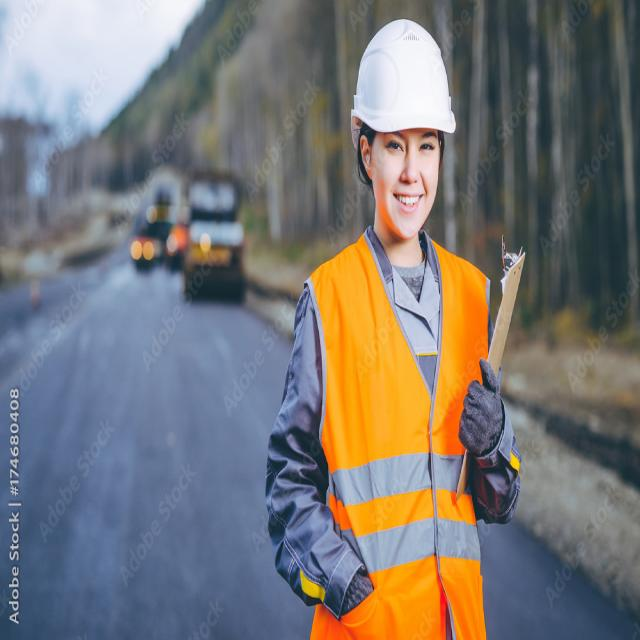gloves: (456, 356, 505, 464), (341, 572, 371, 607)
